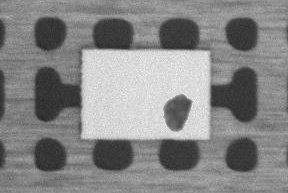DIE_INK: (240, 61, 288, 89)
